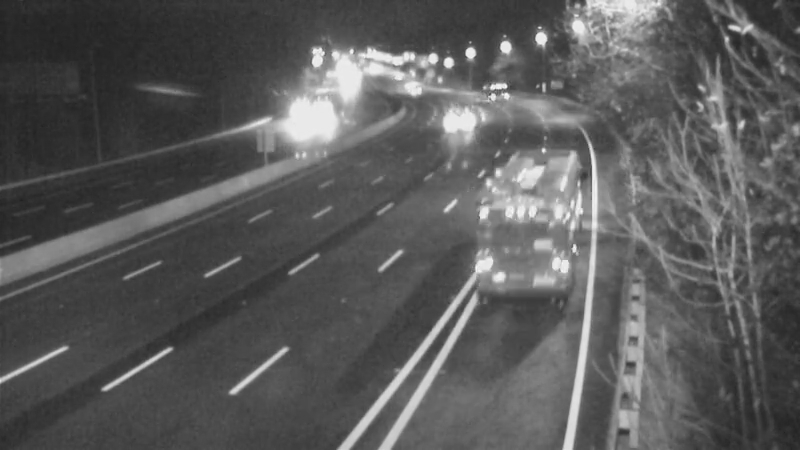vehicle: (480, 173, 560, 253), (388, 65, 438, 115), (462, 64, 512, 114), (426, 96, 476, 146), (272, 97, 322, 147), (304, 93, 354, 143)
